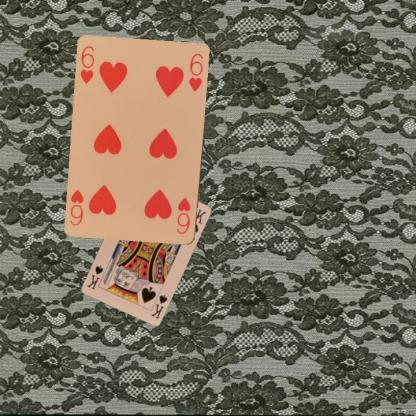6h: (78, 43, 96, 85), (174, 195, 192, 236)
Ks: (149, 292, 168, 319)
